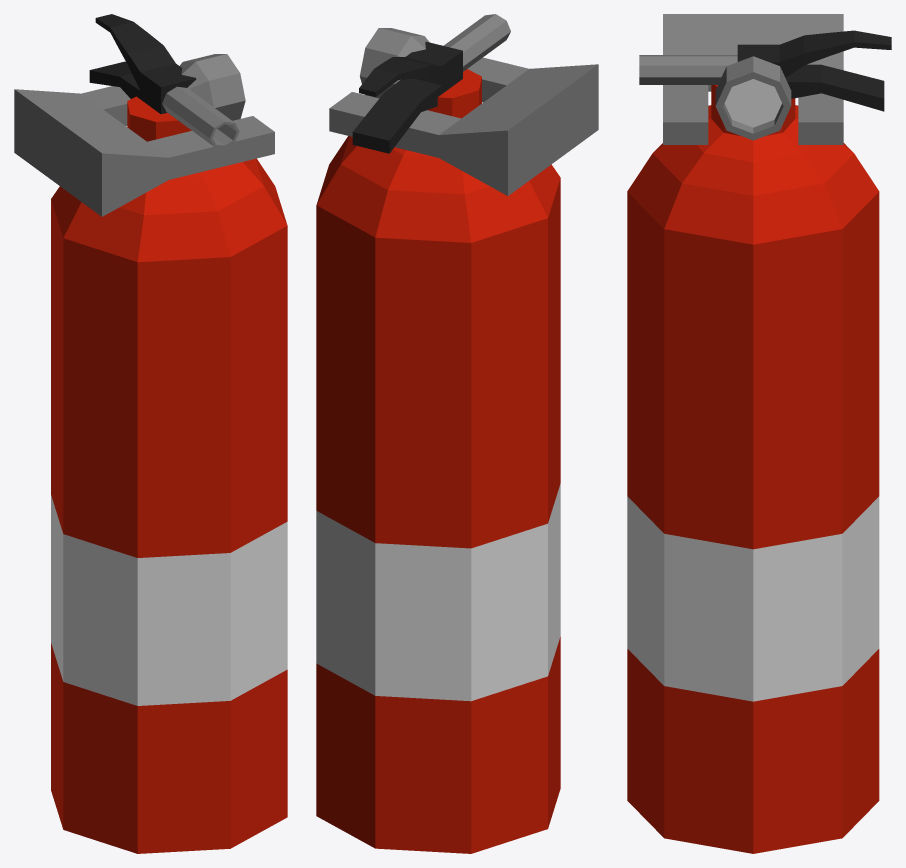
Rendered from Fire Extinguisher.fbx.
3 renders of one model, left to right at view 1: azimuth 30°, elevation 25°; view 2: azimuth 150°, elevation 25°; view 3: azimuth 270°, elevation 25°, orthographic. The views are drawn at different scales.
Visible parts, largest first — view 1: Fire Extinguisher, Wall Hanger; view 2: Fire Extinguisher, Wall Hanger; view 3: Fire Extinguisher, Wall Hanger.
Part boxes in pixels (x1=…): Fire Extinguisher: x1=51, y1=14, x2=287, y2=853; Wall Hanger: x1=14, y1=86, x2=274, y2=216; Fire Extinguisher: x1=316, y1=14, x2=560, y2=853; Wall Hanger: x1=329, y1=57, x2=598, y2=195; Fire Extinguisher: x1=627, y1=30, x2=891, y2=853; Wall Hanger: x1=663, y1=14, x2=843, y2=144.
Bounding box in the file's own units: 614 × 2009 × 629.
